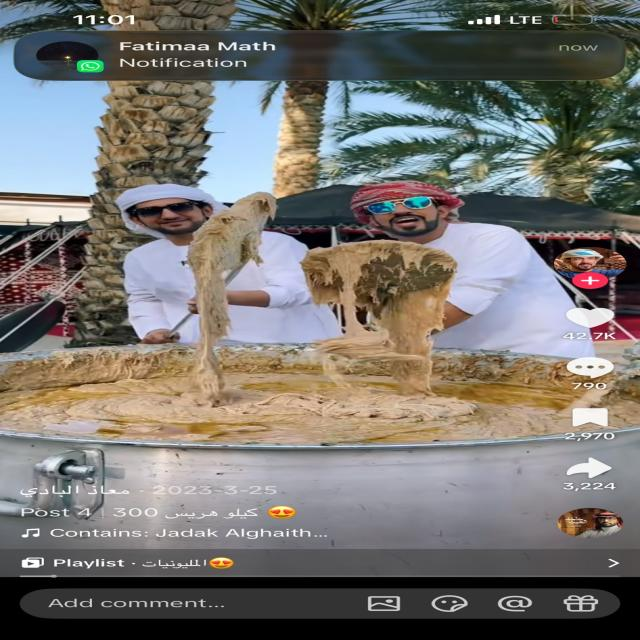Harees: (0, 333, 640, 443)
